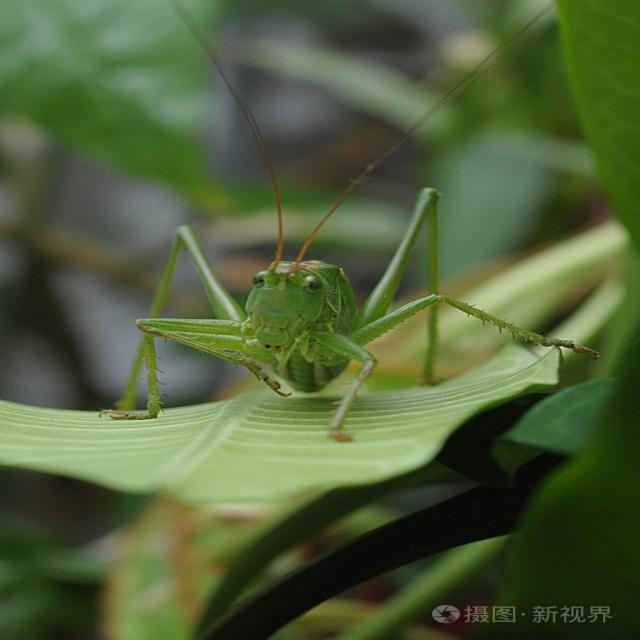ZhaMeng: (58, 167, 580, 442)
